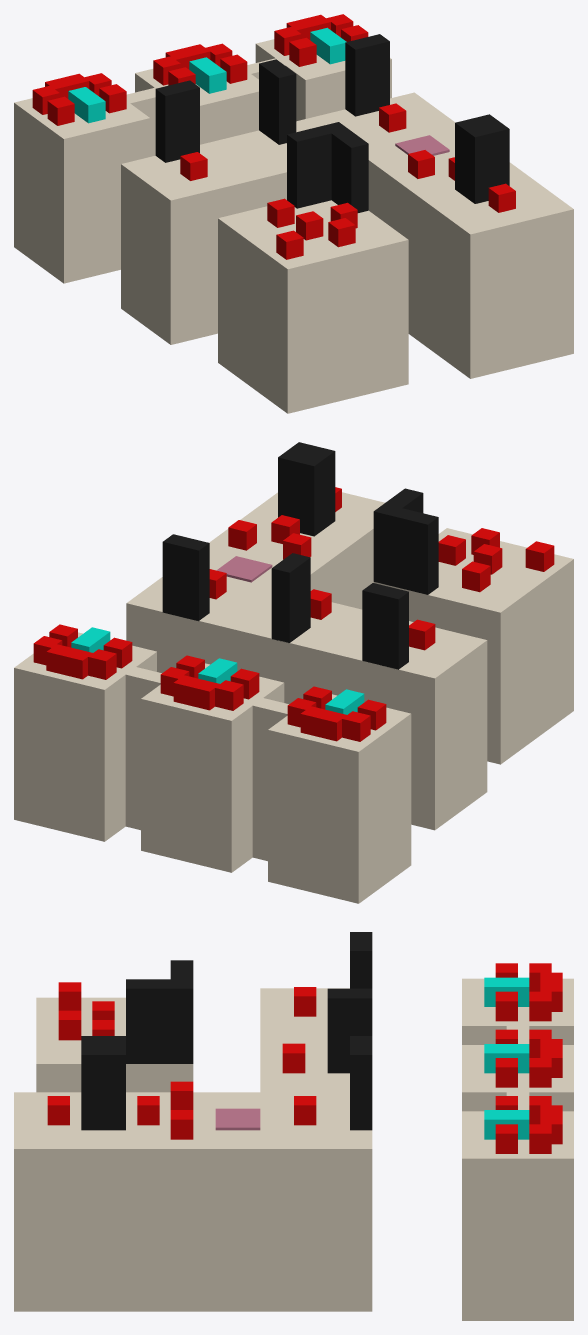
The model's file is Room6.fbx.
The picture shows the model from 3 angles, top to bottom: view 1: azimuth 30°, elevation 25°; view 2: azimuth 150°, elevation 25°; view 3: azimuth 270°, elevation 25°; orthographic projection. The views are drawn at different scales.
Parts seen in each view (by area): view 1: Box002, Box001, Box003, Box005, Obstacle006, Box004, Obstacle004, Box006, Obstacle002, Obstacle001, Obstacle003, Obstacle005 (+20 smaller); view 2: Box003, Box005, Box001, Box004, Box006, Box002, Obstacle004, Obstacle006, Obstacle002, Obstacle001, Obstacle003, Box007 (+24 smaller); view 3: Box002, Box003, Box006, Box001, Obstacle006, Obstacle005, Box004, Box005, Obstacle003, Obstacle004, Obstacle002, Obstacle001 (+20 smaller).
Part boxes in pixels (x1=…): Box002: x1=368, y1=131, x2=573, y2=378; Box001: x1=218, y1=200, x2=408, y2=413; Box003: x1=121, y1=92, x2=455, y2=344; Box005: x1=14, y1=98, x2=150, y2=283; Obstacle006: x1=455, y1=114, x2=509, y2=203; Box004: x1=135, y1=69, x2=258, y2=144; Obstacle004: x1=287, y1=122, x2=348, y2=208; Box006: x1=255, y1=39, x2=391, y2=121; Obstacle002: x1=345, y1=34, x2=389, y2=116; Obstacle001: x1=155, y1=80, x2=199, y2=162; Obstacle003: x1=259, y1=59, x2=296, y2=144; Obstacle005: x1=331, y1=129, x2=368, y2=212; Box003: x1=126, y1=576, x2=487, y2=830; Box005: x1=268, y1=694, x2=411, y2=903; Box001: x1=373, y1=528, x2=573, y2=764; Box004: x1=141, y1=663, x2=284, y2=872; Box006: x1=14, y1=632, x2=156, y2=841; Box002: x1=209, y1=492, x2=384, y2=609; Obstacle004: x1=373, y1=504, x2=438, y2=594; Obstacle006: x1=278, y1=442, x2=335, y2=536; Obstacle002: x1=162, y1=534, x2=209, y2=621; Obstacle001: x1=362, y1=583, x2=408, y2=669; Obstacle003: x1=271, y1=553, x2=310, y2=642; Box007: x1=252, y1=698, x2=288, y2=861; Box002: x1=14, y1=1092, x2=260, y2=1311; Box003: x1=260, y1=988, x2=372, y2=1311; Box006: x1=462, y1=1111, x2=573, y2=1320; Box001: x1=36, y1=997, x2=193, y2=1092; Obstacle006: x1=81, y1=1036, x2=125, y2=1130; Obstacle005: x1=126, y1=979, x2=170, y2=1063; Box004: x1=462, y1=1045, x2=573, y2=1111; Box005: x1=462, y1=978, x2=573, y2=1044; Obstacle003: x1=327, y1=988, x2=372, y2=1073; Obstacle004: x1=170, y1=960, x2=193, y2=1063; Obstacle002: x1=350, y1=1036, x2=372, y2=1130; Obstacle001: x1=350, y1=932, x2=372, y2=988.
Bounding box in the file's own units: 28.88 × 17.78 × 38.
